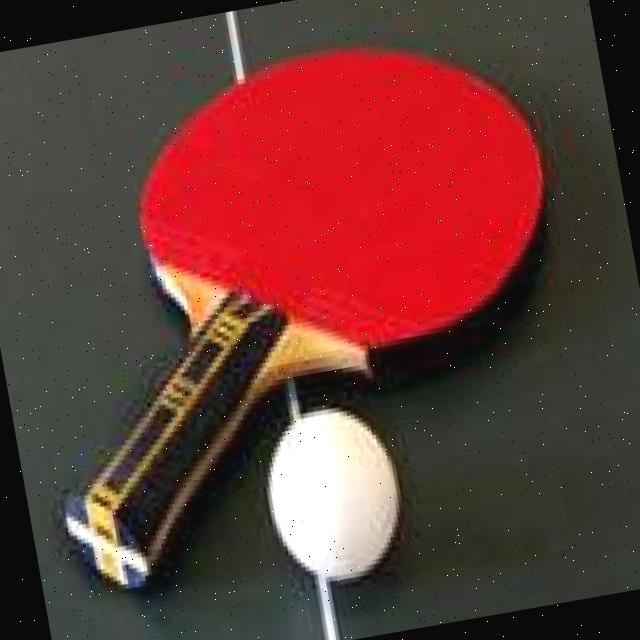ping-pong-ball: (252, 396, 414, 590)
